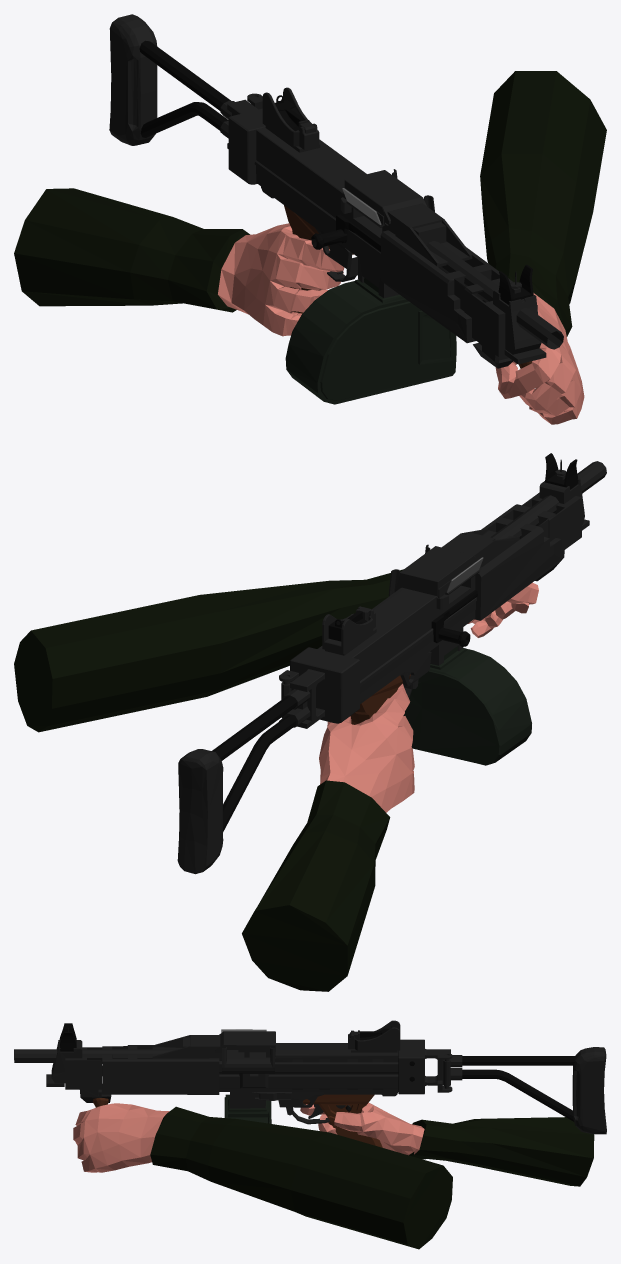
The model's file is negev.obj.
3 renders of one model, top to bottom at view 1: azimuth 30°, elevation 25°; view 2: azimuth 150°, elevation 25°; view 3: azimuth 270°, elevation 25°, orthographic. The views are drawn at different scales.
Visible parts, largest first — view 1: armmesh_Mesh, poignee_negev.024, chargeur_negev.102, culasse_negev.113; view 2: armmesh_Mesh, poignee_negev.024, chargeur_negev.102, culasse_negev.113; view 3: armmesh_Mesh, poignee_negev.024, chargeur_negev.102.
Boxes of the visible parts, bbox=[...] form: armmesh_Mesh: bbox=[14, 71, 606, 424]; poignee_negev.024: bbox=[109, 14, 563, 368]; chargeur_negev.102: bbox=[285, 278, 456, 404]; culasse_negev.113: bbox=[311, 214, 380, 252]; armmesh_Mesh: bbox=[14, 569, 538, 991]; poignee_negev.024: bbox=[177, 453, 606, 874]; chargeur_negev.102: bbox=[403, 646, 531, 765]; culasse_negev.113: bbox=[431, 590, 477, 646]; armmesh_Mesh: bbox=[73, 1102, 594, 1249]; poignee_negev.024: bbox=[14, 1020, 606, 1147]; chargeur_negev.102: bbox=[224, 1094, 271, 1123].
Size of the model in its own units: 2.33 by 1.31 by 3.69.
